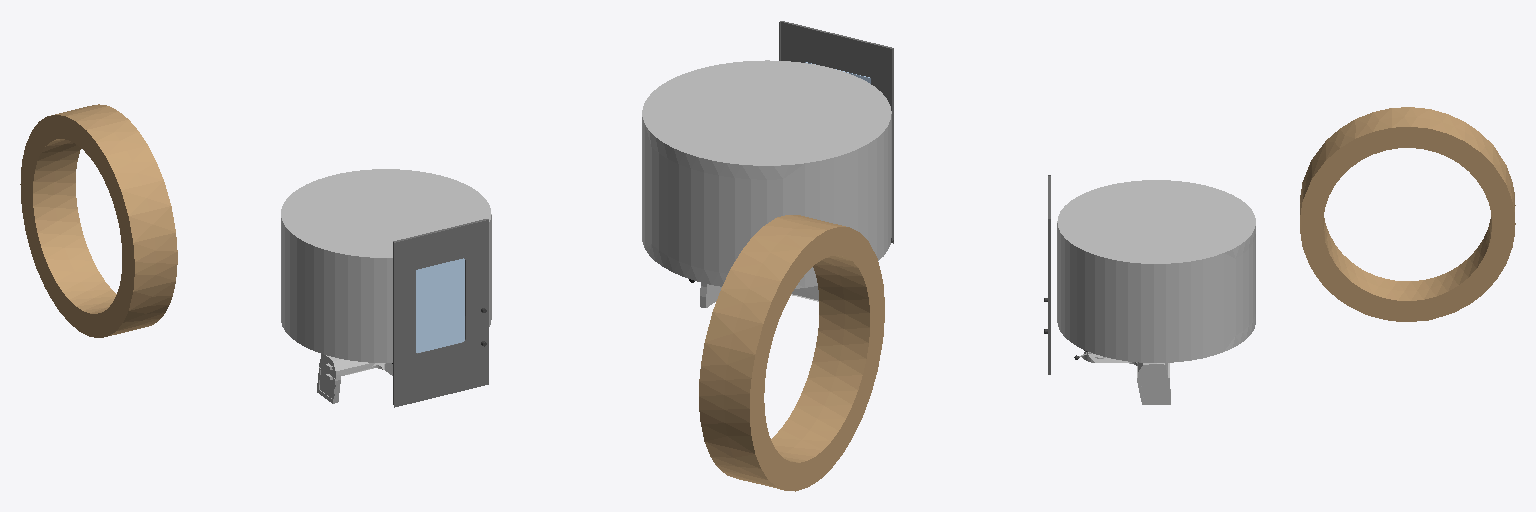
URDF robot description (haas_ec500):
<?xml version="1.0"?>
<robot name="haas_ec500">
  <!-- Generated by Docs/factory_machines/bl_export_urdf.py from urdf_spec_ec500.json. Masses and inertias are nominal box estimates; joint limits follow the FactoryDemo prefab animation. -->
  <link name="base_link">
    <inertial>
      <origin xyz="-6.19292e-05 -9.59635e-05 1.25095" rpy="0 0 0" />
      <mass value="9000" />
      <inertia ixx="21905.1" ixy="0" ixz="0" iyy="13530.7" iyz="0" izz="26046.5" />
    </inertial>
    <visual>
      <origin xyz="0 0 0" rpy="0 0 0" />
      <geometry>
        <mesh filename="package://factory_machines_description/meshes/haas_ec500/visual/base_link.dae" />
      </geometry>
    </visual>
    <collision>
      <origin xyz="0 0 0" rpy="0 0 0" />
      <geometry>
        <mesh filename="package://factory_machines_description/meshes/haas_ec500/collision/base_link.stl" />
      </geometry>
    </collision>
  </link>
  <link name="door">
    <inertial>
      <origin xyz="-2.76119e-05 0 2.98023e-08" rpy="0 0 0" />
      <mass value="60" />
      <inertia ixx="11.2057" ixy="0" ixz="0" iyy="15.2683" iyz="0" izz="4.09205" />
    </inertial>
    <visual>
      <origin xyz="0 0 0" rpy="0 0 0" />
      <geometry>
        <mesh filename="package://factory_machines_description/meshes/haas_ec500/visual/door.dae" />
      </geometry>
    </visual>
    <collision>
      <origin xyz="0 0 0" rpy="0 0 0" />
      <geometry>
        <mesh filename="package://factory_machines_description/meshes/haas_ec500/collision/door.stl" />
      </geometry>
    </collision>
  </link>
  <link name="pallet_changer">
    <inertial>
      <origin xyz="0 -0.00403991 0.26472" rpy="0 0 0" />
      <mass value="400" />
      <inertia ixx="178.813" ixy="0" ixz="0" iyy="178.711" iyz="0" izz="199.462" />
    </inertial>
    <visual>
      <origin xyz="0 0 0" rpy="0 0 0" />
      <geometry>
        <mesh filename="package://factory_machines_description/meshes/haas_ec500/visual/pallet_changer.dae" />
      </geometry>
    </visual>
    <collision>
      <origin xyz="0 0 0" rpy="0 0 0" />
      <geometry>
        <mesh filename="package://factory_machines_description/meshes/haas_ec500/collision/pallet_changer.stl" />
      </geometry>
    </collision>
  </link>
  <link name="carousel">
    <inertial>
      <origin xyz="-0.00123128 -0.000595987 0.00287366" rpy="0 0 0" />
      <mass value="120" />
      <inertia ixx="70.5371" ixy="0" ixz="0" iyy="36.9407" iyz="0" izz="36.8996" />
    </inertial>
    <visual>
      <origin xyz="0 0 0" rpy="0 0 0" />
      <geometry>
        <mesh filename="package://factory_machines_description/meshes/haas_ec500/visual/carousel.dae" />
      </geometry>
    </visual>
    <collision>
      <origin xyz="0 0 0" rpy="0 0 0" />
      <geometry>
        <mesh filename="package://factory_machines_description/meshes/haas_ec500/collision/carousel.stl" />
      </geometry>
    </collision>
  </link>
  <joint name="door_slide" type="prismatic">
    <origin xyz="0.405012 -2.35007 1.51442" rpy="0 0 0" />
    <parent link="base_link" />
    <child link="door" />
    <axis xyz="-1 0 0" />
    <limit effort="500" velocity="0.5" lower="0" upper="0.86" />
  </joint>
  <joint name="pallet_changer_index" type="continuous">
    <origin xyz="0.424955 -1.39658 1" rpy="0 0 0" />
    <parent link="base_link" />
    <child link="pallet_changer" />
    <axis xyz="0 0 1" />
    <limit effort="500" velocity="1" />
  </joint>
  <joint name="carousel_index" type="continuous">
    <origin xyz="-1.03505 0.783418 1.42" rpy="0 0 0" />
    <parent link="base_link" />
    <child link="carousel" />
    <axis xyz="1 0 0" />
    <limit effort="200" velocity="0.5" />
  </joint>
</robot>

--- Facts derived from the render (not from the file) ---
Views: 3 orthographic renders of the robot side by side, from view 1: azimuth 30°, elevation 25°; view 2: azimuth 150°, elevation 25°; view 3: azimuth 270°, elevation 25°.
Model haas_ec500 with 4 links and 3 joints (2 continuous, 1 prismatic), rooted at base_link, posed every joint at zero.
Visible links, largest first — view 1: pallet_changer, carousel, door; view 2: pallet_changer, carousel, door; view 3: pallet_changer, carousel, door.
Link boxes in pixels (box(x1,y1,x2,y2)): pallet_changer: box(281, 169, 491, 403); carousel: box(20, 104, 177, 337); door: box(393, 219, 488, 407); pallet_changer: box(642, 60, 891, 307); carousel: box(699, 215, 884, 491); door: box(779, 21, 893, 243); pallet_changer: box(1057, 180, 1255, 404); carousel: box(1300, 107, 1515, 321); door: box(1044, 175, 1050, 374).
Bounding box of the posed robot: 2.53 × 4.1 × 1.88 m (x, y, z).
Meshes: 4 distinct files referenced, 3 mesh visuals loaded (3 Collada DAE); not drawn: 1 (reference not matched to a file when rendering).
